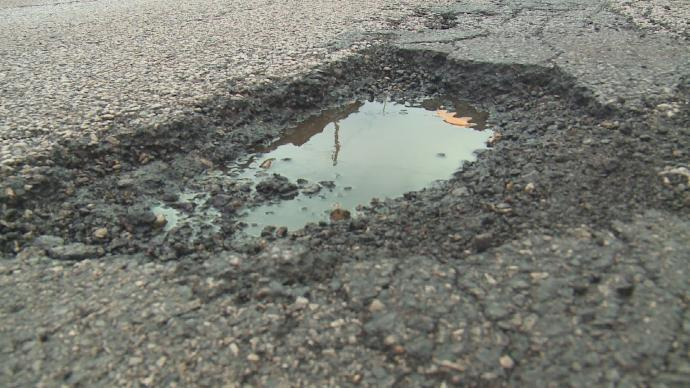Pothole: (100, 18, 606, 291)
